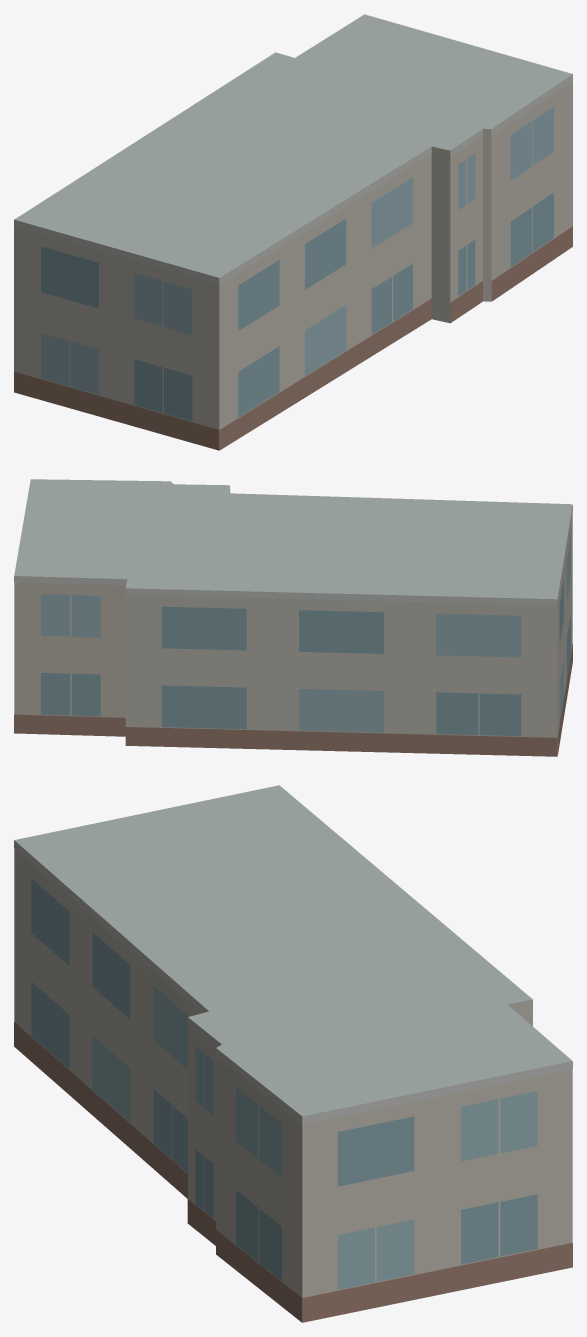
Rendered from survey-upis-32938024.glb.
3 views of the same model, one above another, from view 1: azimuth 30°, elevation 25°; view 2: azimuth 150°, elevation 25°; view 3: azimuth 270°, elevation 25° (orthographic). The views are drawn at different scales.
Visible parts, largest first — view 1: survey-upis-32938024.tmp; view 2: survey-upis-32938024.tmp; view 3: survey-upis-32938024.tmp.
Boxes of the visible parts, x1,y1,x2,y2 form: survey-upis-32938024.tmp: [14, 14, 572, 450]; survey-upis-32938024.tmp: [14, 479, 572, 756]; survey-upis-32938024.tmp: [14, 785, 572, 1322].
Size of the model in its own units: 21.01 by 6.1 by 14.98.
